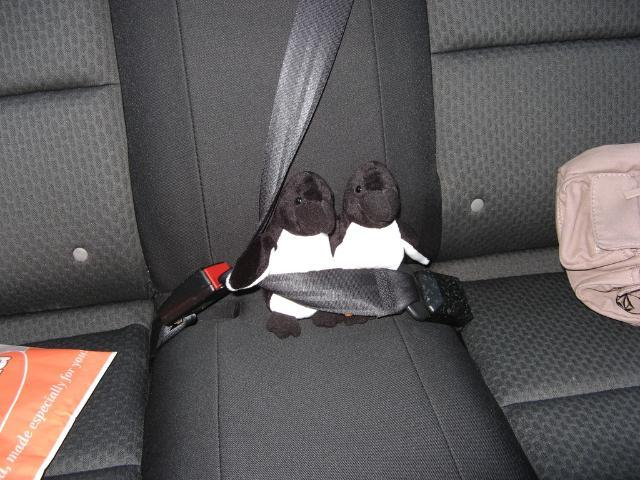Seatbelt: (150, 0, 470, 351)
